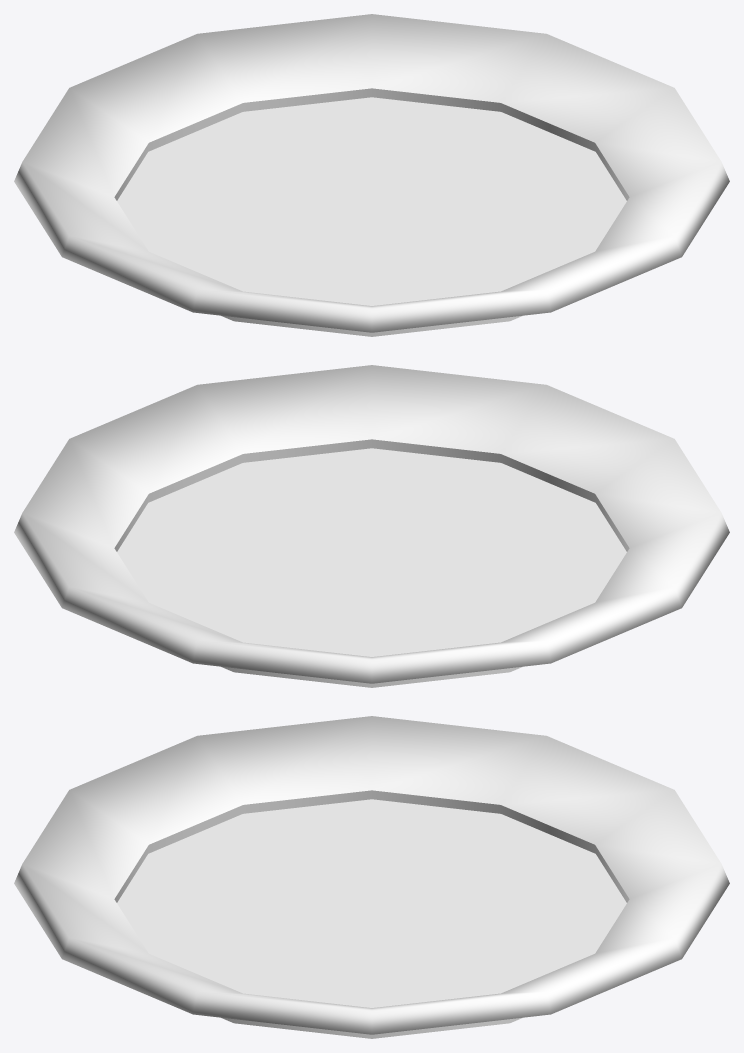
File: Plate.fbx
The picture shows the model from 3 angles, top to bottom: view 1: azimuth 30°, elevation 25°; view 2: azimuth 150°, elevation 25°; view 3: azimuth 270°, elevation 25°; orthographic projection.
Visible parts, largest first — view 1: Plate; view 2: Plate; view 3: Plate.
Part boxes in pixels (x1,y1,x2,y2): Plate: (14,14,729,336); Plate: (14,365,729,687); Plate: (14,716,729,1038).
Bounding box in the file's own units: 0.6132 × 0.0553 × 0.6132.
